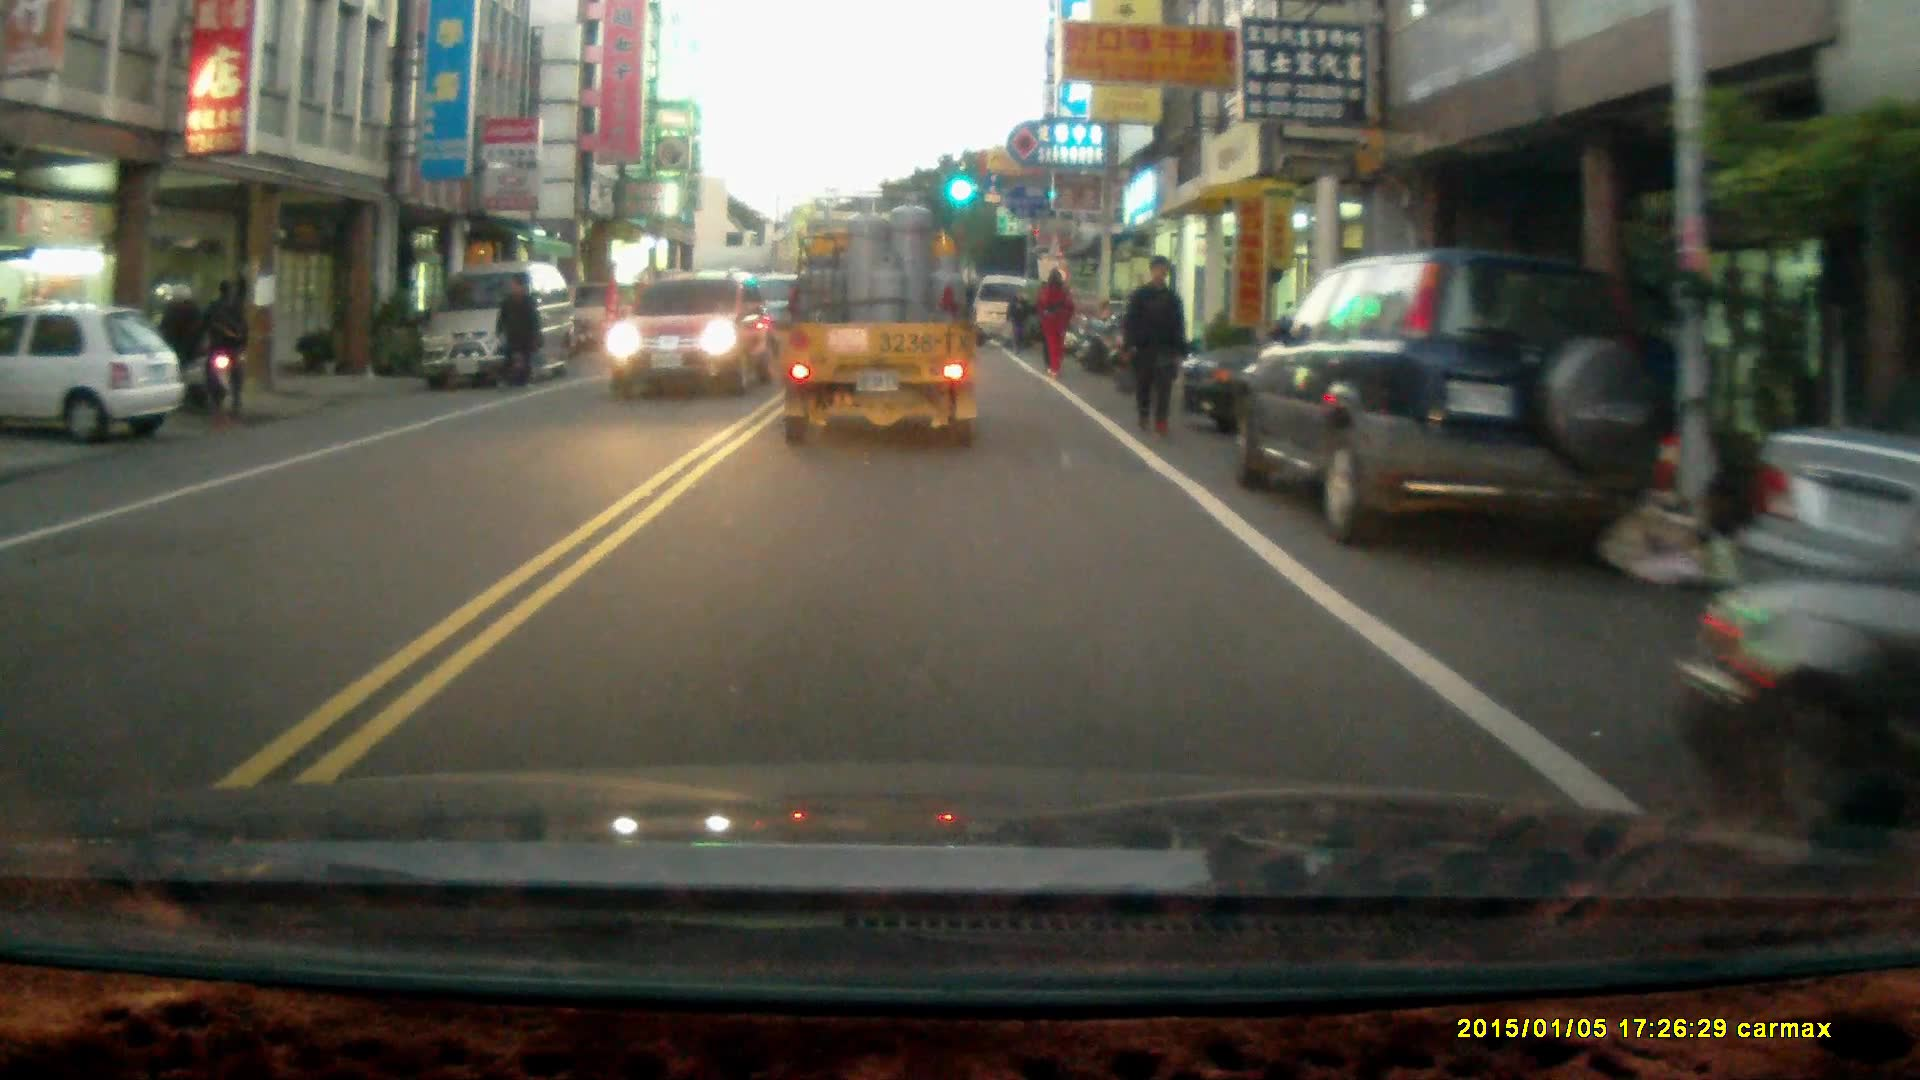pedestrian: (1120, 250, 1190, 438), (200, 273, 247, 412), (491, 270, 540, 394), (1035, 262, 1072, 376), (1004, 283, 1035, 355)
rider: (139, 278, 229, 414)
vehicle: (1233, 244, 1669, 552), (1672, 566, 1920, 873), (773, 190, 981, 455), (1, 306, 194, 451), (418, 262, 584, 387), (607, 273, 764, 395), (984, 270, 1041, 352)
